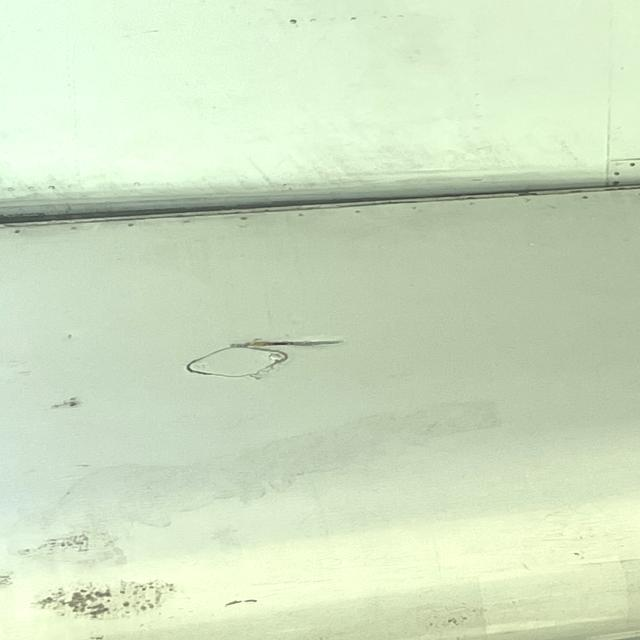crack: (233, 335, 346, 355)
